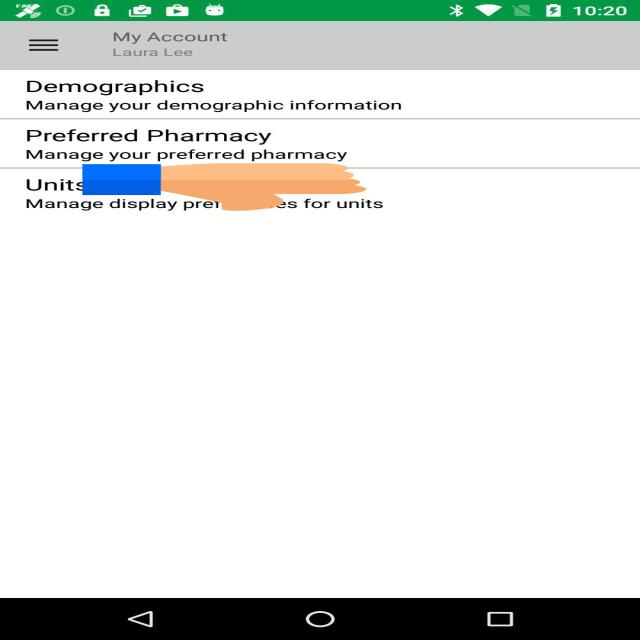obstruction: (82, 162, 366, 212)
